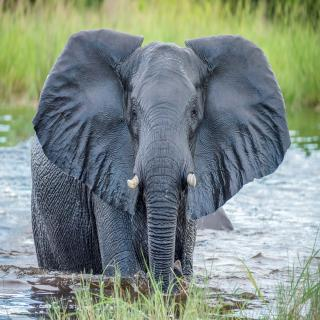Elephant: (16, 21, 297, 311)
